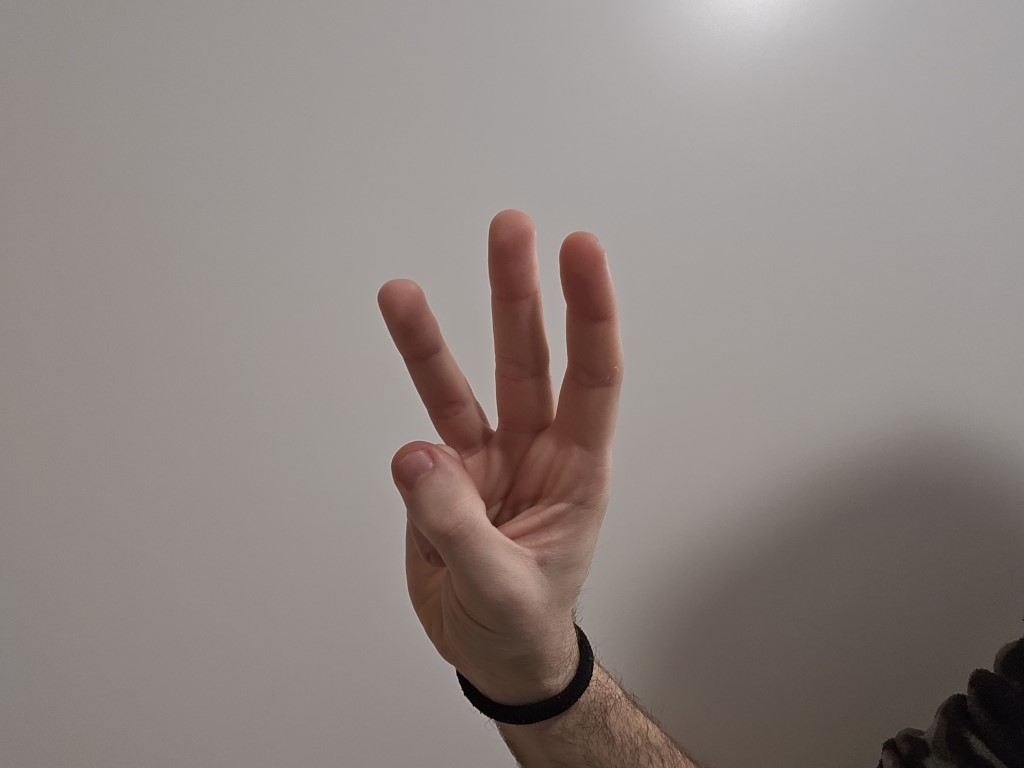w: (348, 184, 655, 663)
